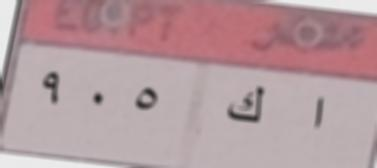0: (87, 82, 110, 116)
5: (134, 81, 166, 122)
9: (36, 66, 65, 113)
alif: (304, 89, 330, 138)
kaaf: (219, 77, 268, 134)
